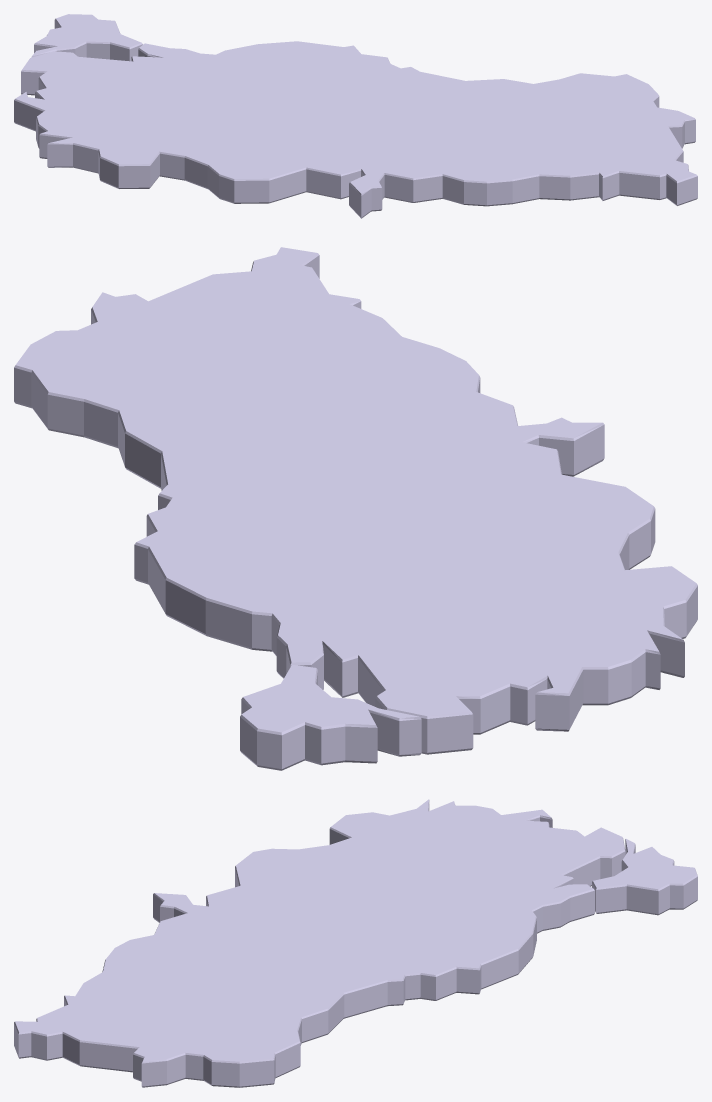
Rendered from TUR.glb.
3 renders of one model, top to bottom at view 1: azimuth 30°, elevation 25°; view 2: azimuth 150°, elevation 25°; view 3: azimuth 270°, elevation 25°, orthographic. The views are drawn at different scales.
Bounding box in the file's own units: 1.47 × 0.068 × 1.62.
